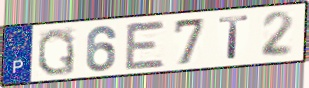2: (260, 10, 295, 59)
6: (84, 24, 119, 74)
7: (172, 18, 207, 66)
E: (123, 20, 167, 72)
Q: (36, 27, 77, 78)
T: (217, 14, 252, 61)
